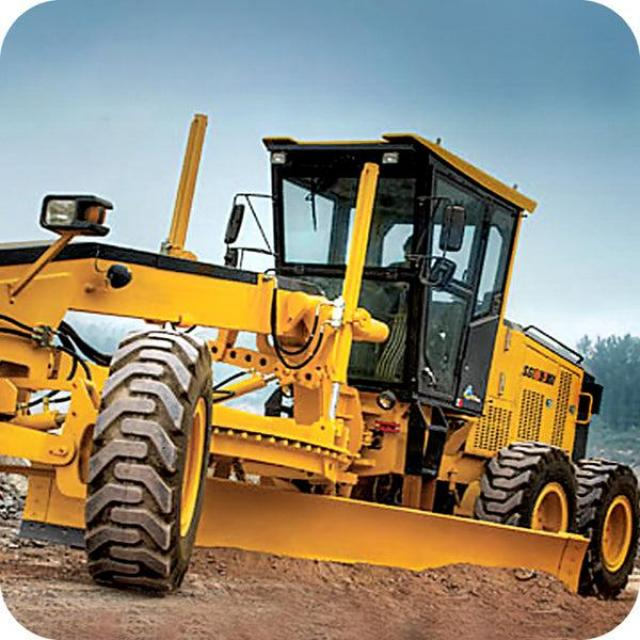Grader: (1, 101, 639, 603)
